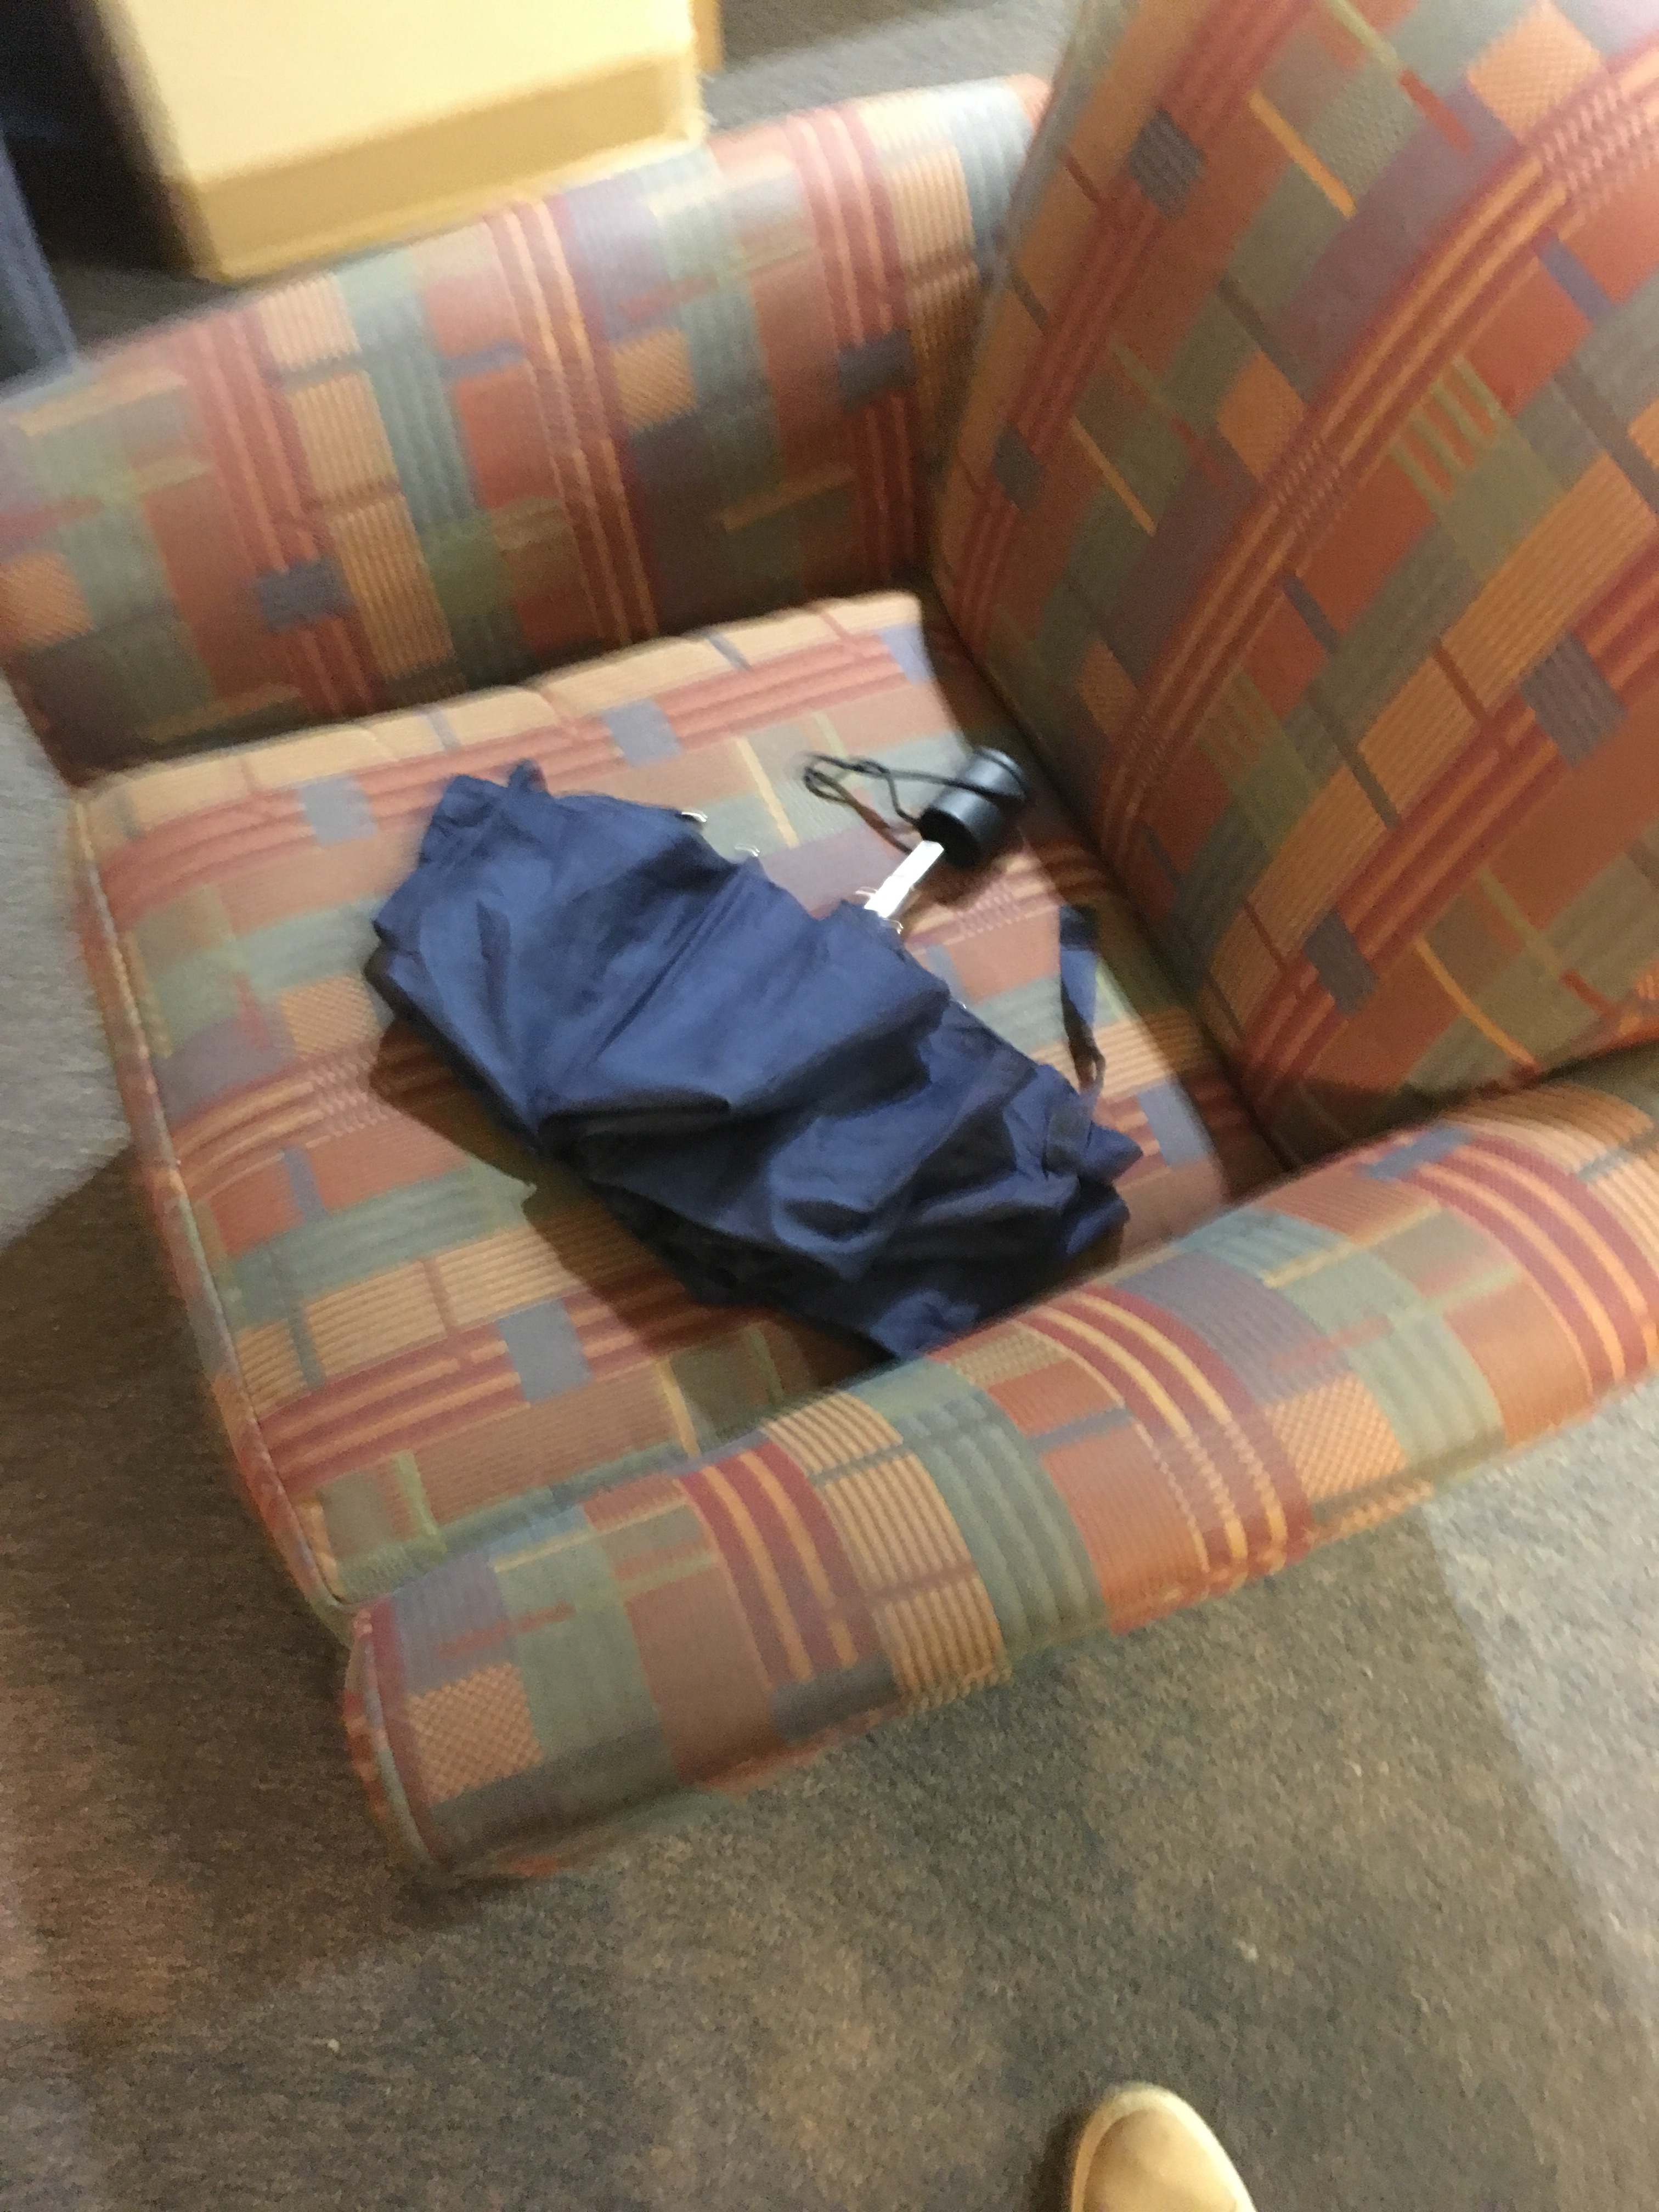Umbrella: (354, 721, 1148, 1366)
